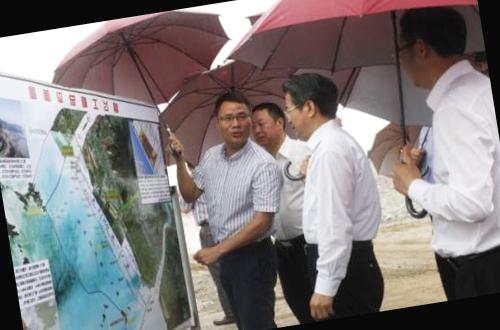no_helmet: (386, 0, 479, 87), (276, 66, 344, 143), (245, 92, 291, 153), (211, 92, 257, 150)
